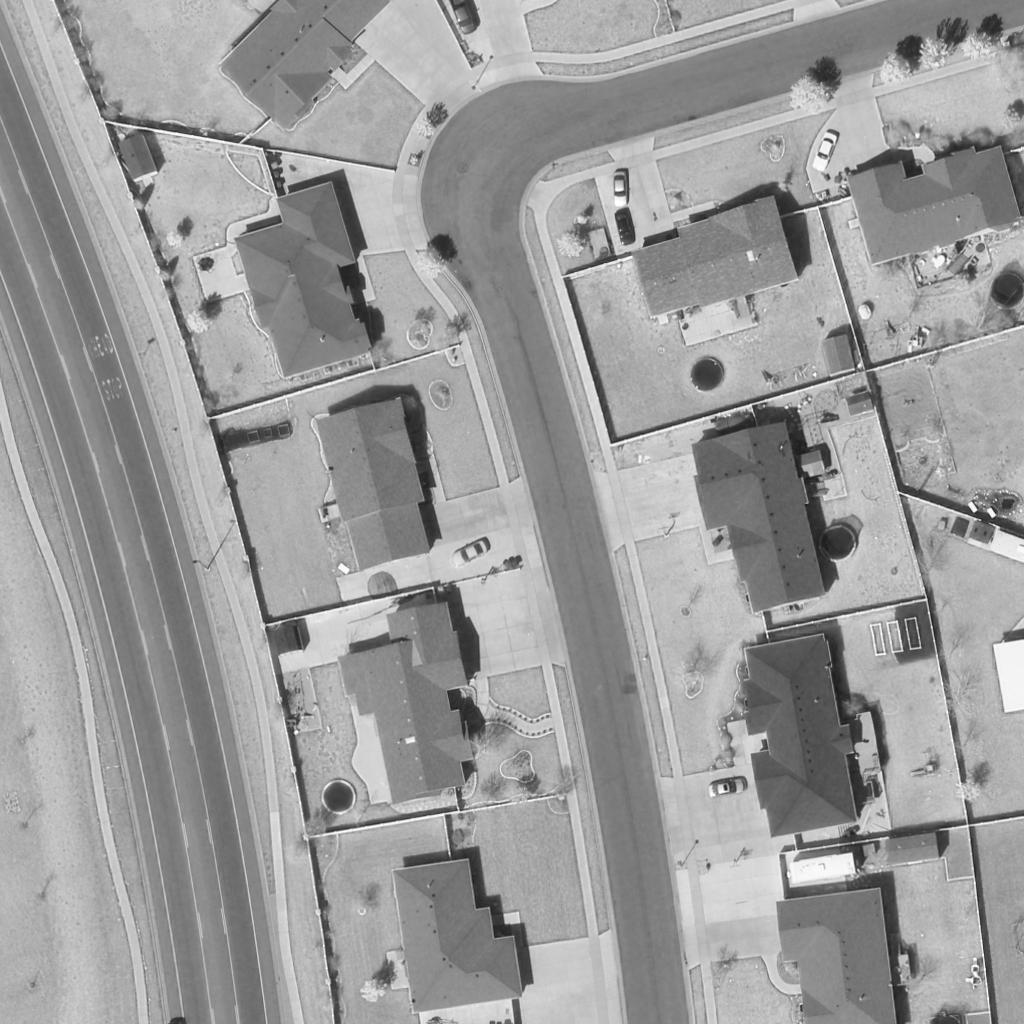vehicle: (790, 857, 856, 883), (809, 128, 839, 174), (449, 539, 493, 569), (448, 0, 480, 37), (709, 777, 747, 799), (615, 211, 637, 247), (613, 169, 627, 209)
